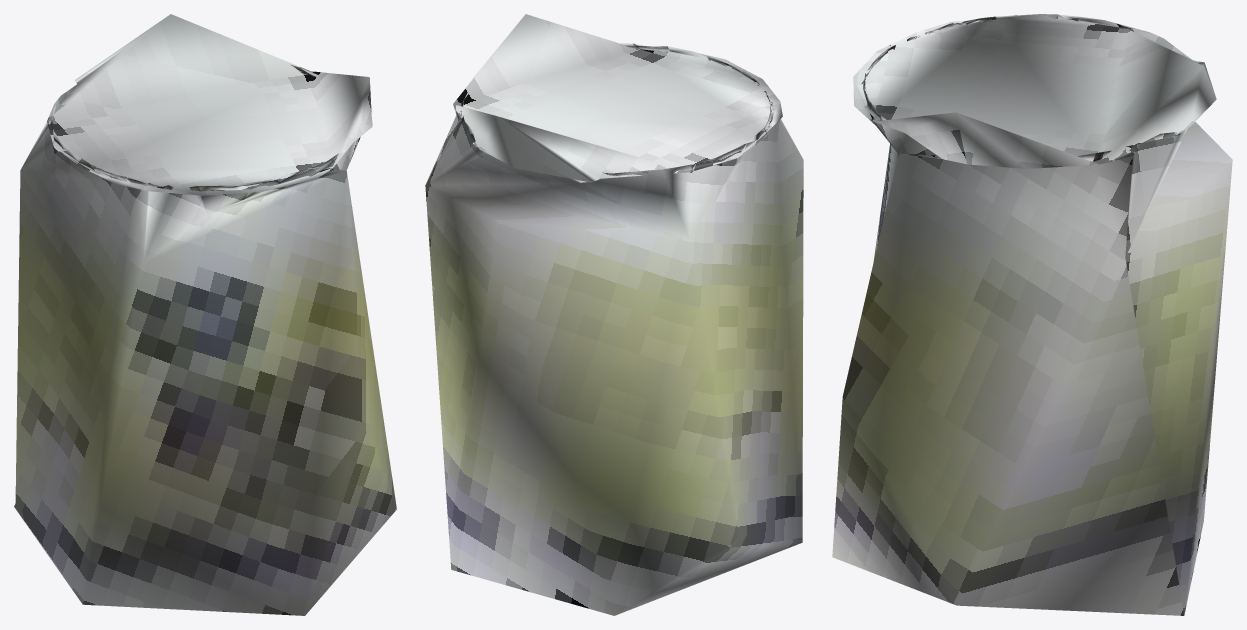
Rendered from Whey_Protein_Vanilla-low.glb.
The picture shows the model from 3 angles, left to right: view 1: azimuth 30°, elevation 25°; view 2: azimuth 150°, elevation 25°; view 3: azimuth 270°, elevation 25°; orthographic projection. The views are drawn at different scales.
Parts seen in each view (by area): view 1: Whey_Protein_Vanilla; view 2: Whey_Protein_Vanilla; view 3: Whey_Protein_Vanilla.
Boxes of the visible parts, <box> form: Whey_Protein_Vanilla: <box>14,14,396,615</box>; Whey_Protein_Vanilla: <box>425,14,803,615</box>; Whey_Protein_Vanilla: <box>832,14,1232,615</box>.
Bounding box in the file's own units: 0.1132 × 0.1651 × 0.1151.
Materials: 1 (1 with a texture image).
